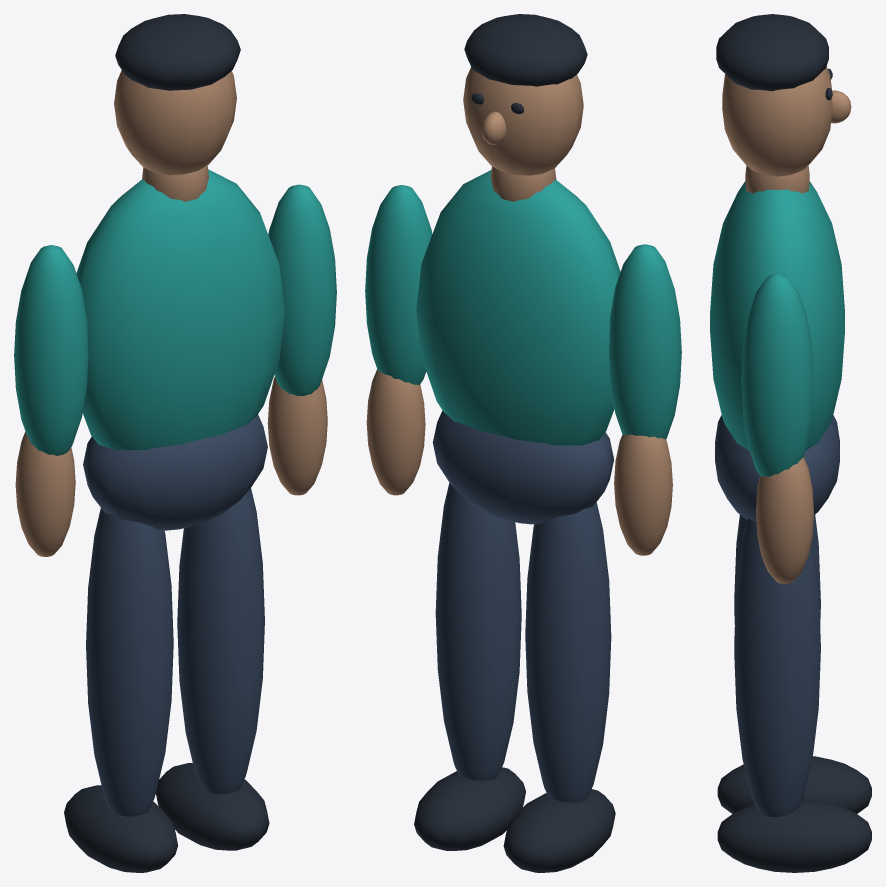
The model's file is pedestrian.glb.
3 renders of one model, left to right at view 1: azimuth 30°, elevation 25°; view 2: azimuth 150°, elevation 25°; view 3: azimuth 270°, elevation 25°, orthographic.
Parts seen in each view (by area): view 1: Pedestrian; view 2: Pedestrian; view 3: Pedestrian.
Part boxes in pixels (box(x1,y1,x2,y2)): Pedestrian: box(14, 14, 336, 872); Pedestrian: box(365, 14, 681, 872); Pedestrian: box(710, 14, 871, 872).
Bounding box in the file's own units: 0.72 × 1.84 × 0.3275.
